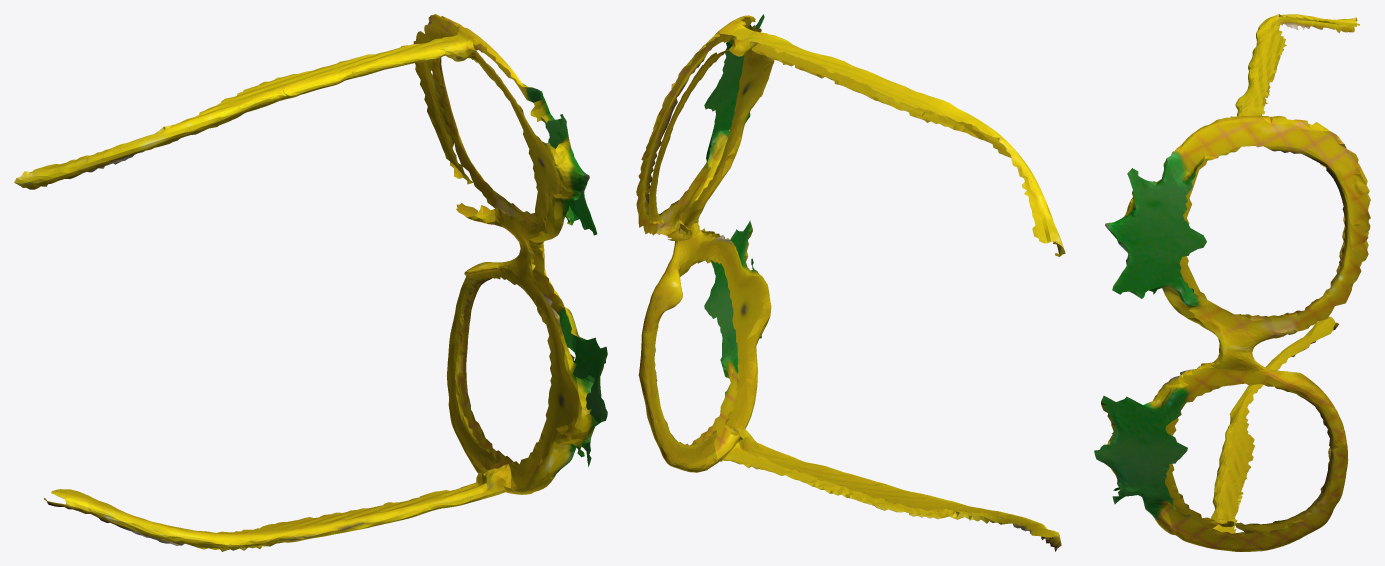
The model's file is eyeglasses2.obj.
3 renders of one model, left to right at view 1: azimuth 30°, elevation 25°; view 2: azimuth 150°, elevation 25°; view 3: azimuth 270°, elevation 25°, orthographic. The views are drawn at different scales.
Parts seen in each view (by area): view 1: eyeglasses2; view 2: eyeglasses2; view 3: eyeglasses2.
Boxes of the visible parts, box(x1,y1,x2,y2) form: eyeglasses2: box(14, 14, 607, 551); eyeglasses2: box(636, 14, 1065, 551); eyeglasses2: box(1094, 14, 1370, 551).
Bounding box in the file's own units: 0.1358 × 0.1288 × 0.0752.
1 material, 1 textured.
